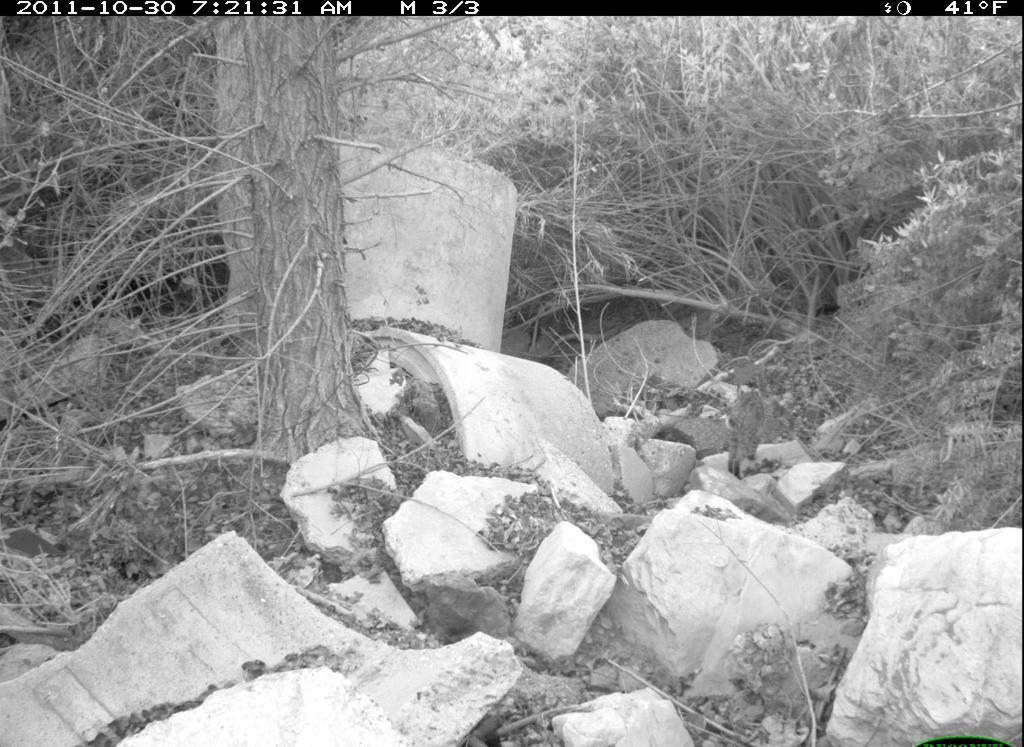bobcat: (717, 380, 788, 489)
